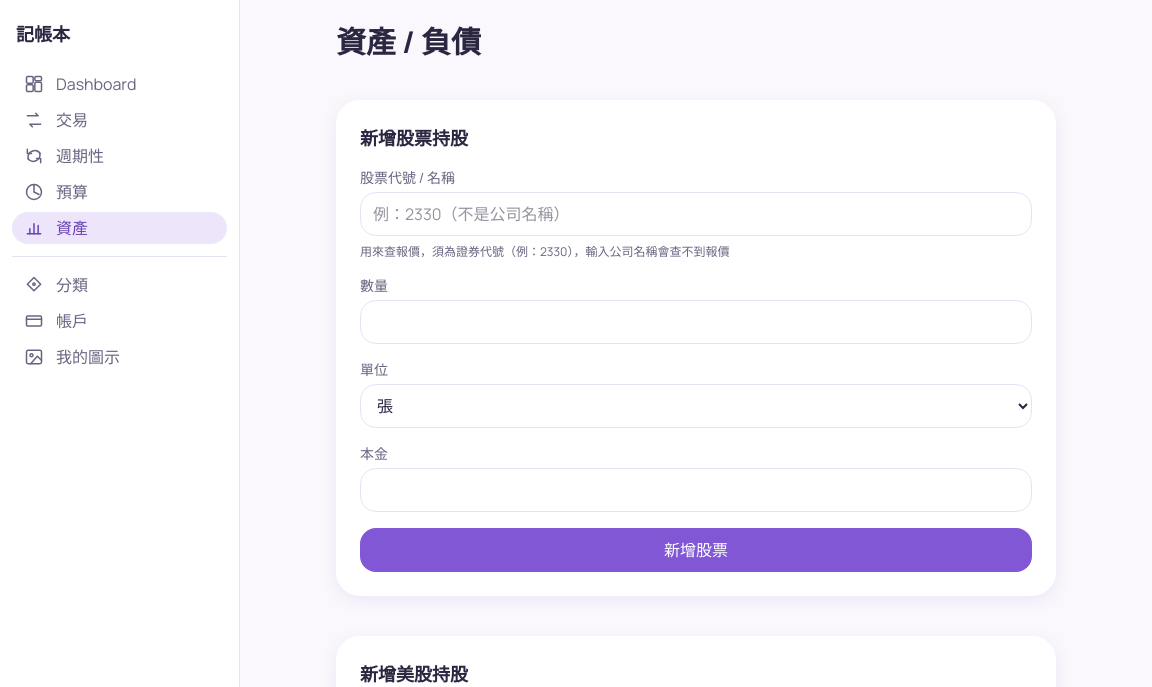
AssetsPage › 輸入已持有的標的（忽略前後空白）時顯示合併提示，送出後 toast 顯示合併後總量
Type " 台積電 " into the field labelled "股票代號 / 名稱". click: (696, 214)
box: [360,192,1032,236]
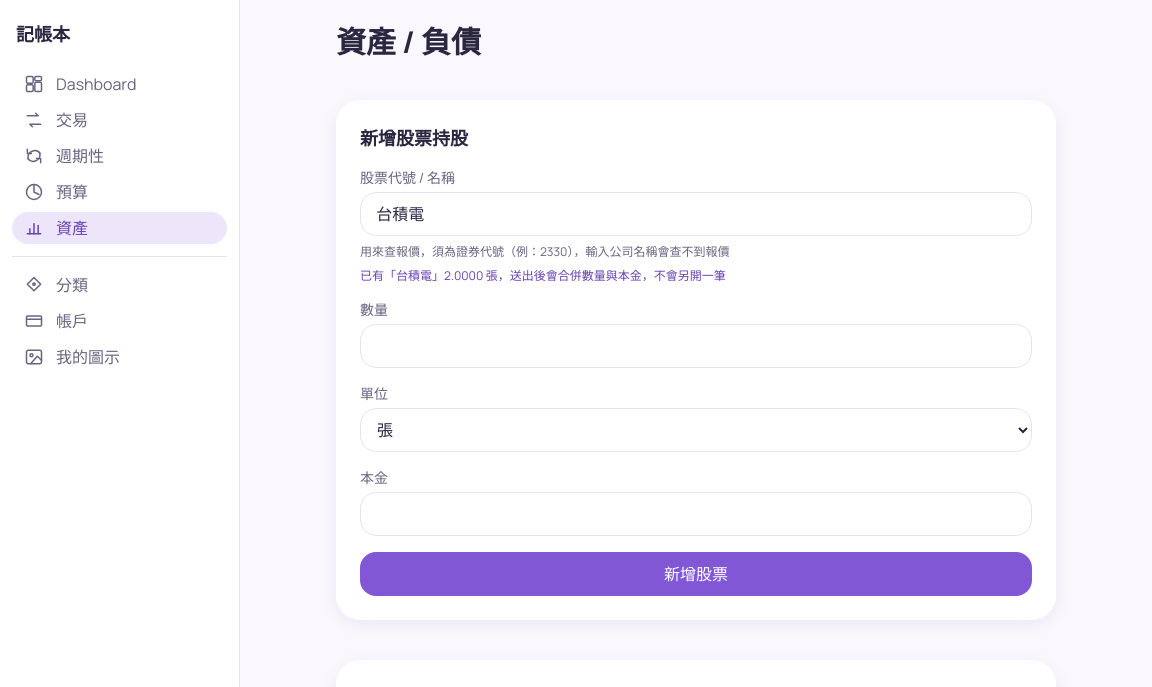
Now the text "已有「台積電」2.0000 張，送出後會合併數量與本金，不會另開一筆" is shown, box [360,267,726,284]
Type "1" into the field labelled "數量". click: (696, 346)
box: [360,324,1032,368]
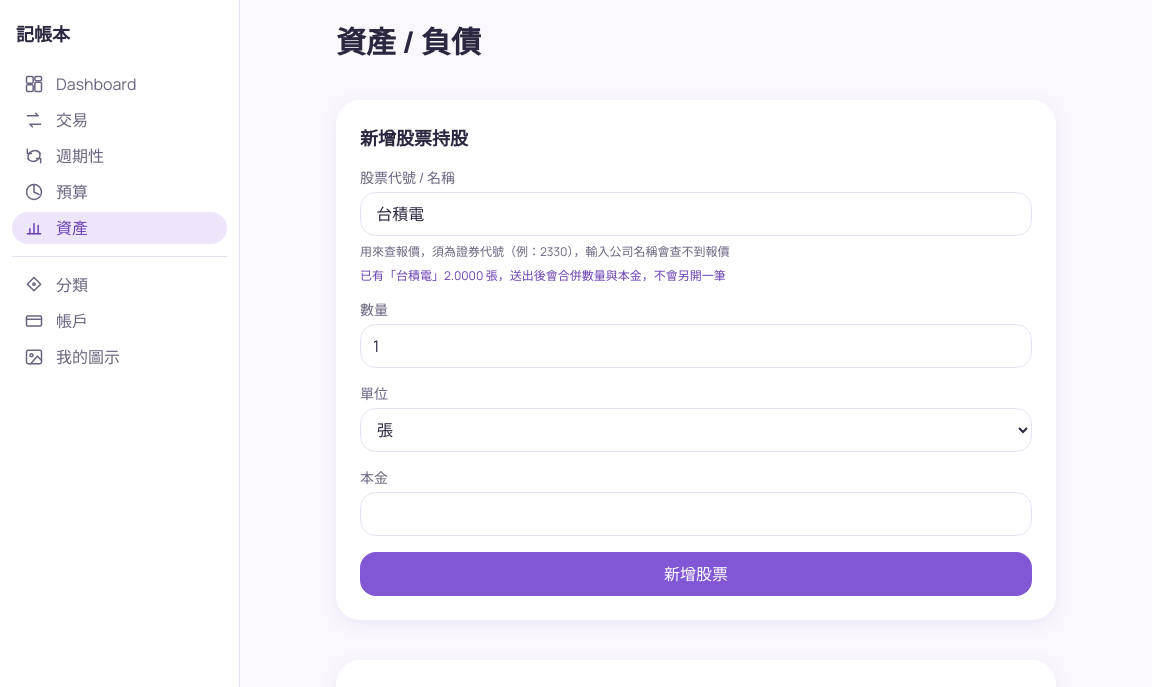
Type "200000" into the field labelled "本金". click: (696, 514)
box: [360,492,1032,536]
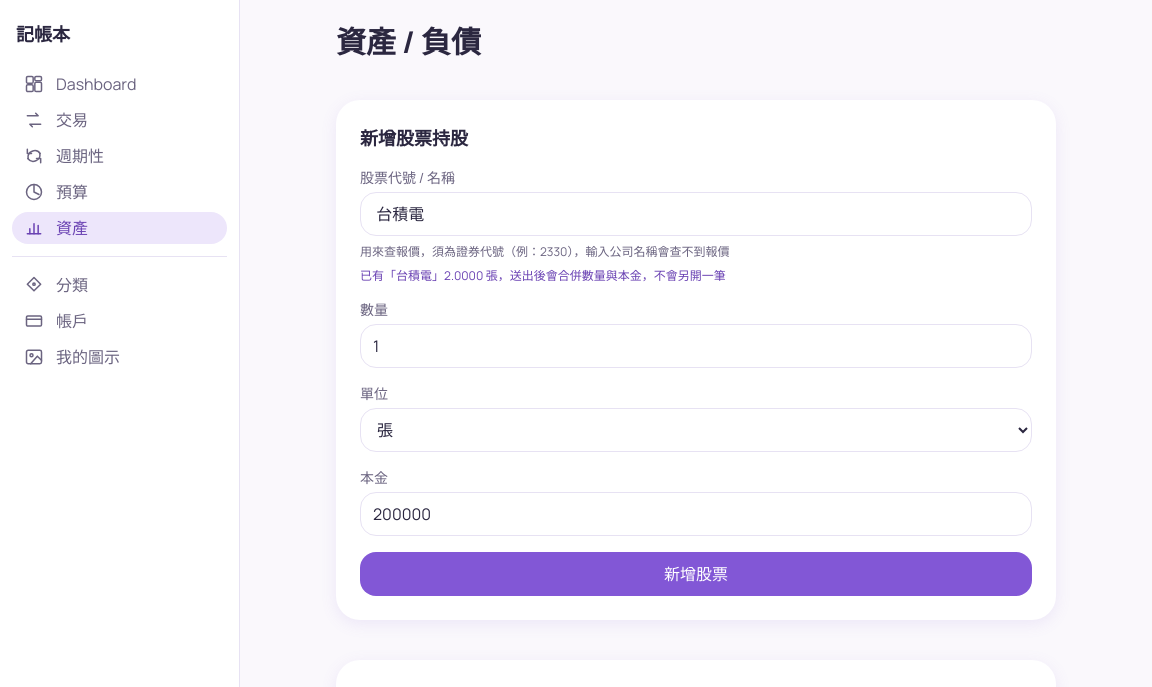
Click the button "新增股票". click: (696, 574)
box: [360,552,1032,596]
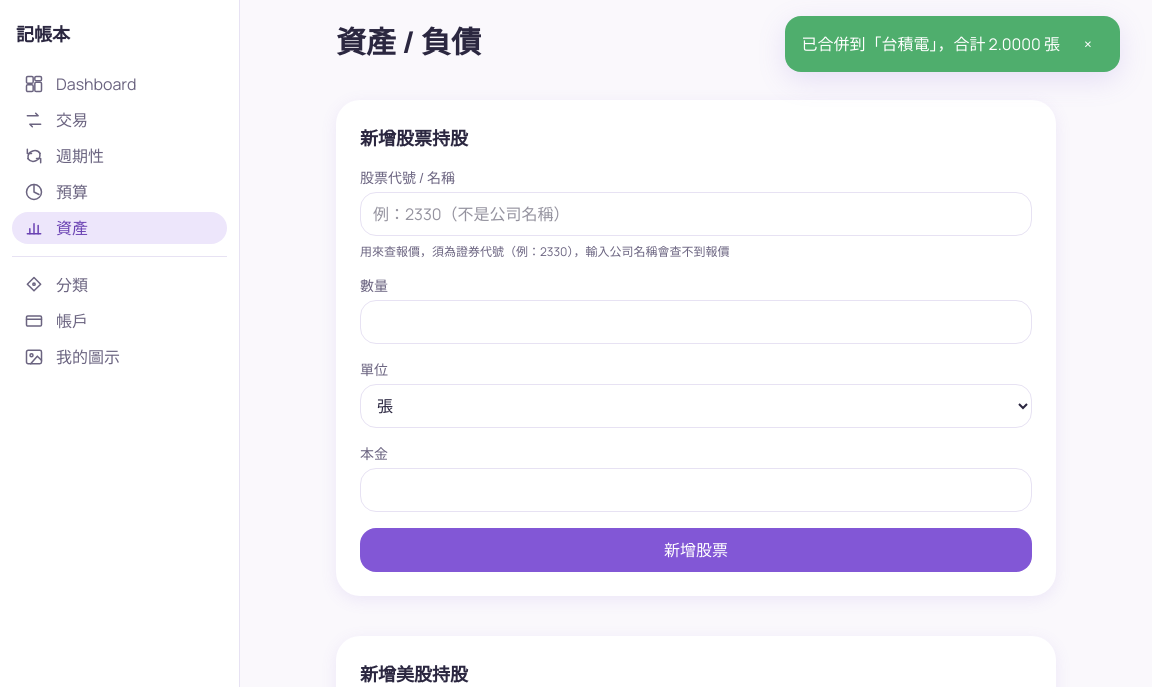
Now the text "已合併到「台積電」，合計 2.0000 張" is shown, box [801,32,1060,56]
